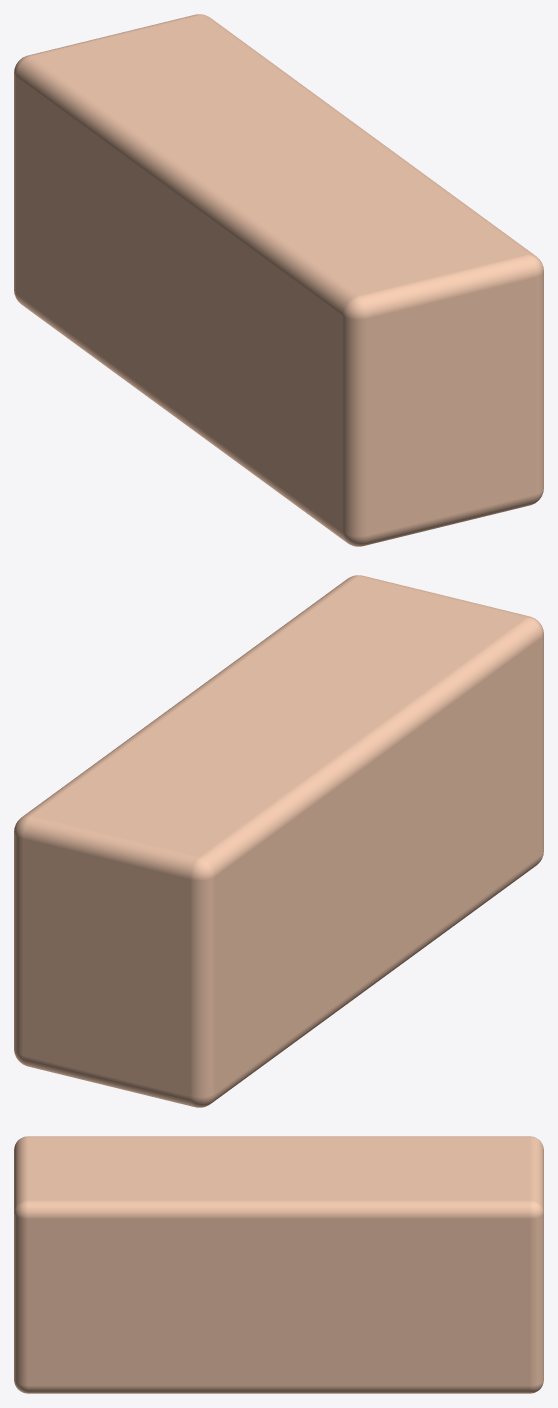
The picture shows the model from 3 angles, top to bottom: view 1: azimuth 30°, elevation 25°; view 2: azimuth 150°, elevation 25°; view 3: azimuth 270°, elevation 25°; orthographic projection. The views are drawn at different scales.
Parts seen in each view (by area): view 1: Cube; view 2: Cube; view 3: Cube.
Part boxes in pixels (x1,y1,x2,y2): Cube: [14, 14, 543, 546]; Cube: [14, 575, 543, 1107]; Cube: [14, 1136, 543, 1393].
Bounding box in the file's own units: 1 × 1.2 × 3.
